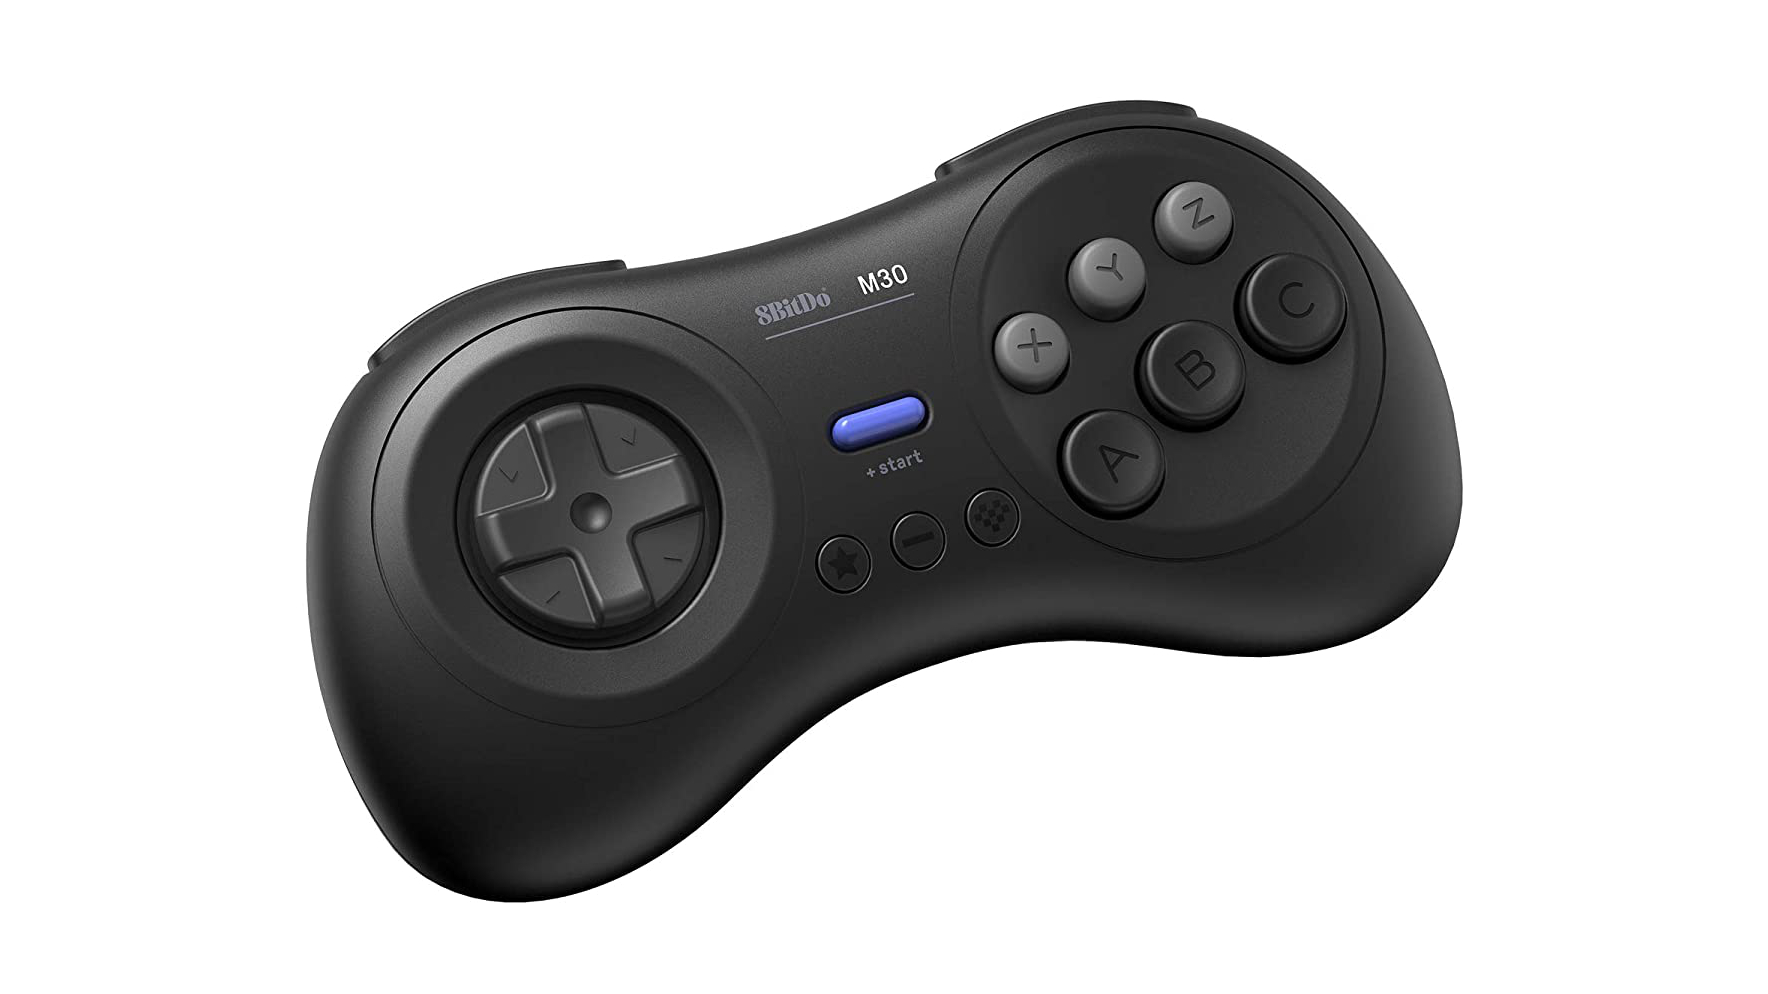controller: (304, 100, 1464, 905)
